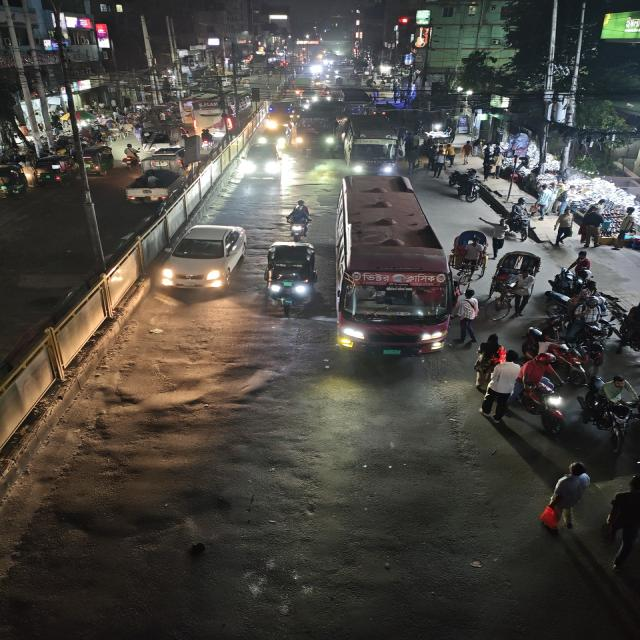bus: (334, 171, 448, 364), (342, 112, 400, 175), (189, 88, 255, 138), (295, 101, 351, 157)
car: (157, 225, 251, 296), (233, 142, 285, 186)
cng: (263, 240, 319, 312), (78, 142, 116, 178), (36, 155, 76, 186)
motorcycle: (509, 358, 563, 429), (580, 378, 634, 442), (283, 197, 315, 241), (452, 168, 487, 205), (196, 128, 219, 154), (122, 144, 143, 168)
pedestrian: (546, 454, 589, 537), (485, 353, 511, 422), (554, 205, 576, 251), (489, 218, 511, 257), (585, 205, 601, 248)
pickup_van: (127, 146, 190, 205)
rickshaw: (490, 249, 534, 312), (447, 223, 487, 284)
